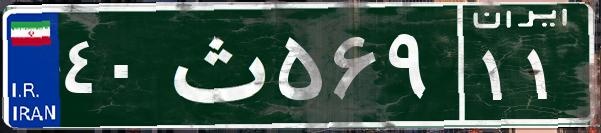0: (110, 28, 158, 105)
1: (475, 38, 525, 113), (525, 38, 570, 115)
4: (57, 26, 110, 107)
5: (273, 28, 330, 110)
6: (330, 28, 385, 110)
9: (385, 28, 445, 110)
ث: (158, 15, 273, 115)
